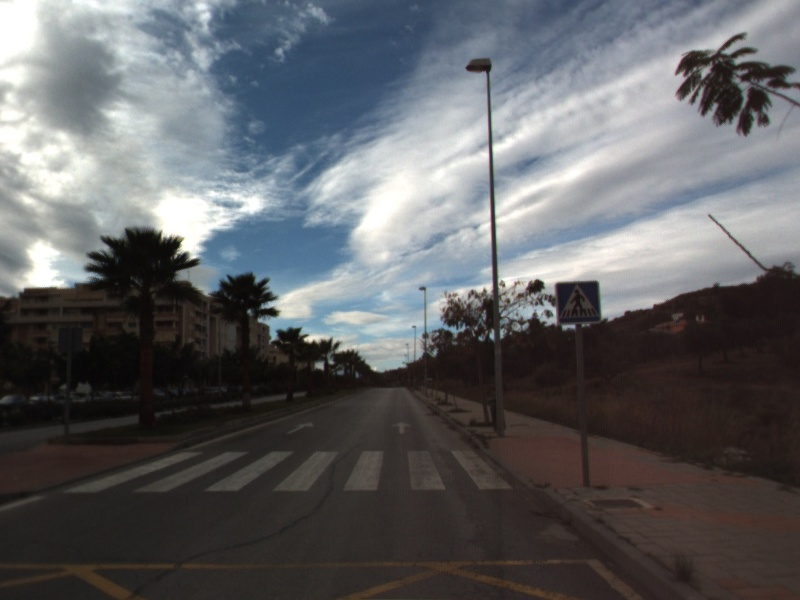STRAIGHT: (285, 420, 316, 436), (390, 419, 414, 436)
